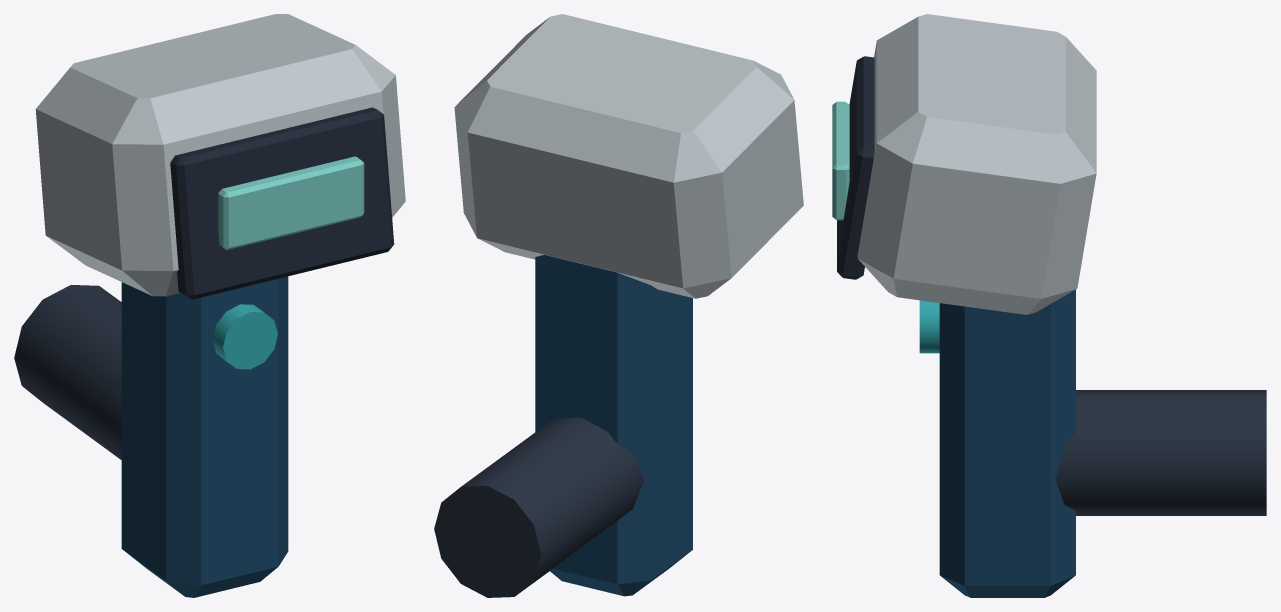
Rendered from survey_scanner.glb.
The picture shows the model from 3 angles, left to right: view 1: azimuth 30°, elevation 25°; view 2: azimuth 150°, elevation 25°; view 3: azimuth 270°, elevation 25°; orthographic projection. The views are drawn at different scales.
Visible parts, largest first — view 1: survey_scanner_geo; view 2: survey_scanner_geo; view 3: survey_scanner_geo.
Part boxes in pixels (box(x1,y1,x2,y2)): survey_scanner_geo: box(14, 14, 405, 597); survey_scanner_geo: box(434, 14, 803, 597); survey_scanner_geo: box(832, 14, 1266, 597).
Size of the model in its own units: 0.165 by 0.2967 by 0.2265.
